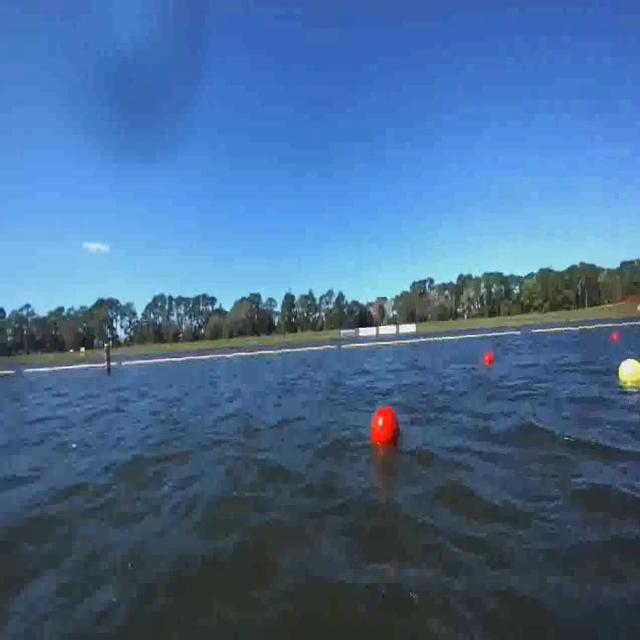red-buoy: (372, 407, 400, 445), (484, 351, 496, 365)
yellow-buoy: (618, 359, 640, 386)
